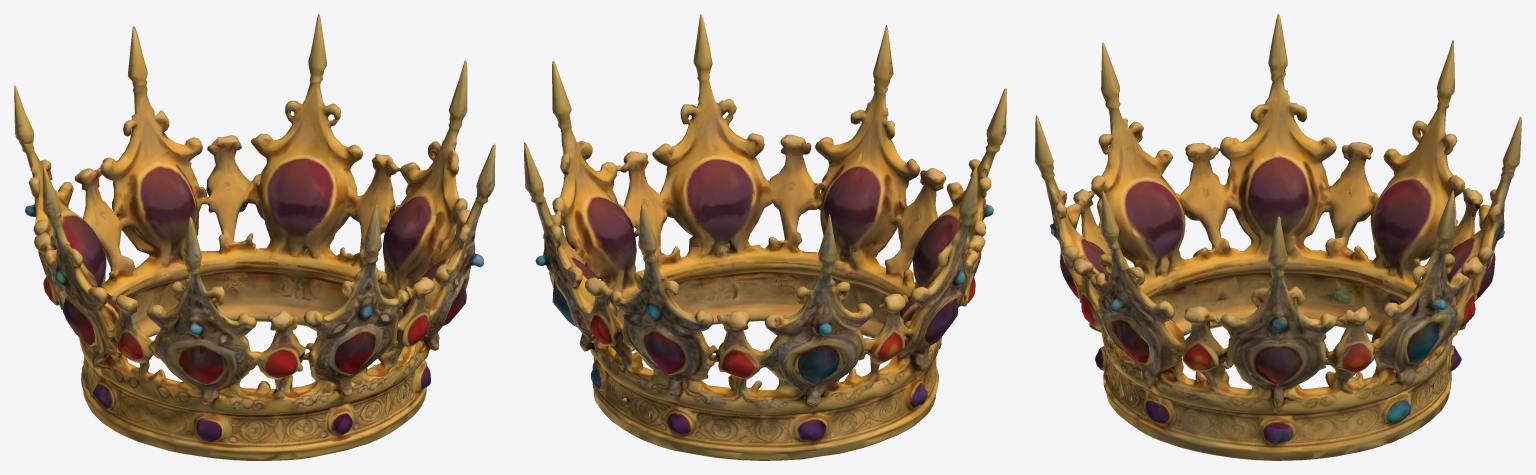
File: apex-fantasia-corona.glb
The picture shows the model from 3 angles, left to right: view 1: azimuth 30°, elevation 25°; view 2: azimuth 150°, elevation 25°; view 3: azimuth 270°, elevation 25°; orthographic projection.
Size of the model in its own units: 2 by 1.25 by 2.
Materials: 1 (1 with a texture image).
